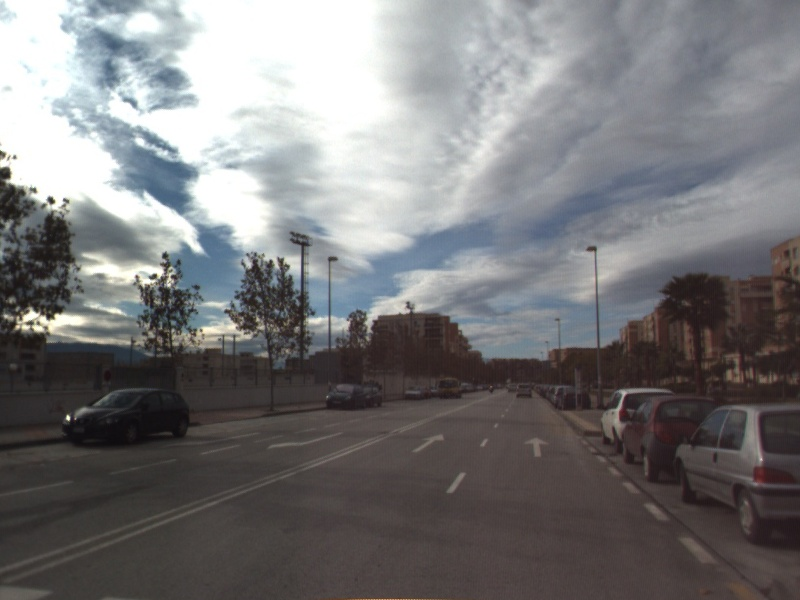STRAIGHT: (410, 432, 446, 454), (522, 435, 552, 459)
